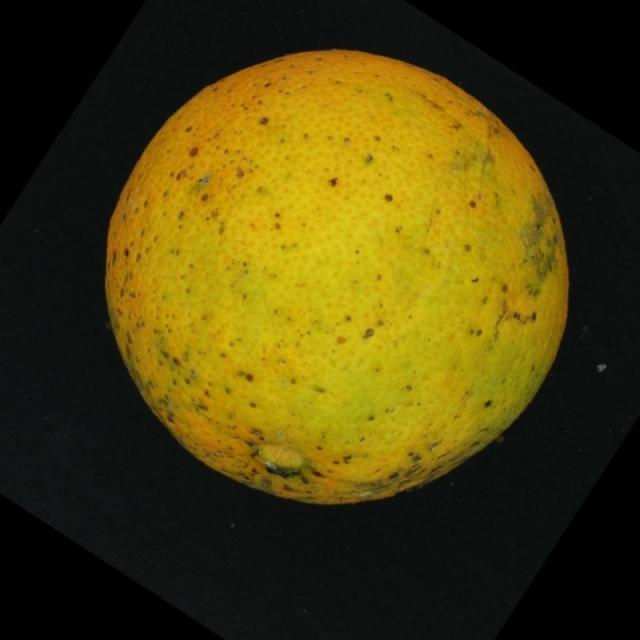grenning: (66, 26, 594, 523)
